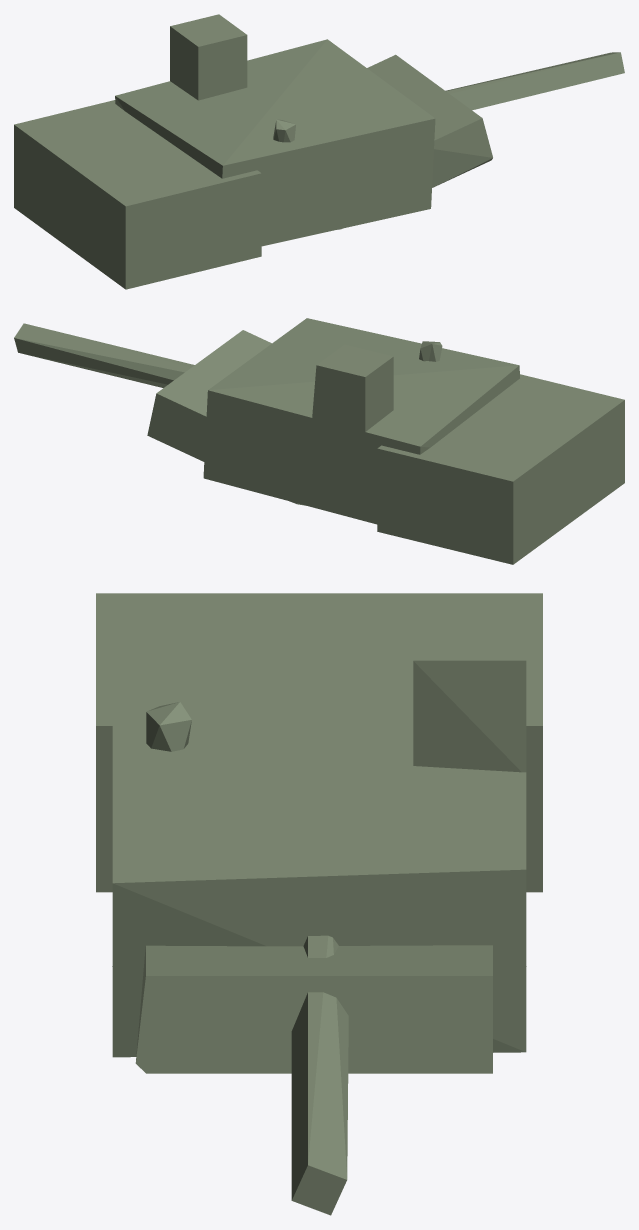
File: tank_turret_fr.lod2.glb
3 renders of one model, top to bottom at view 1: azimuth 30°, elevation 25°; view 2: azimuth 150°, elevation 25°; view 3: azimuth 270°, elevation 25°, orthographic. The views are drawn at different scales.
Bounding box in the file's own units: 3.79 × 0.98 × 1.34.
